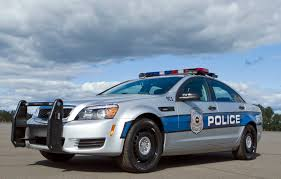special: (11, 67, 263, 173)
